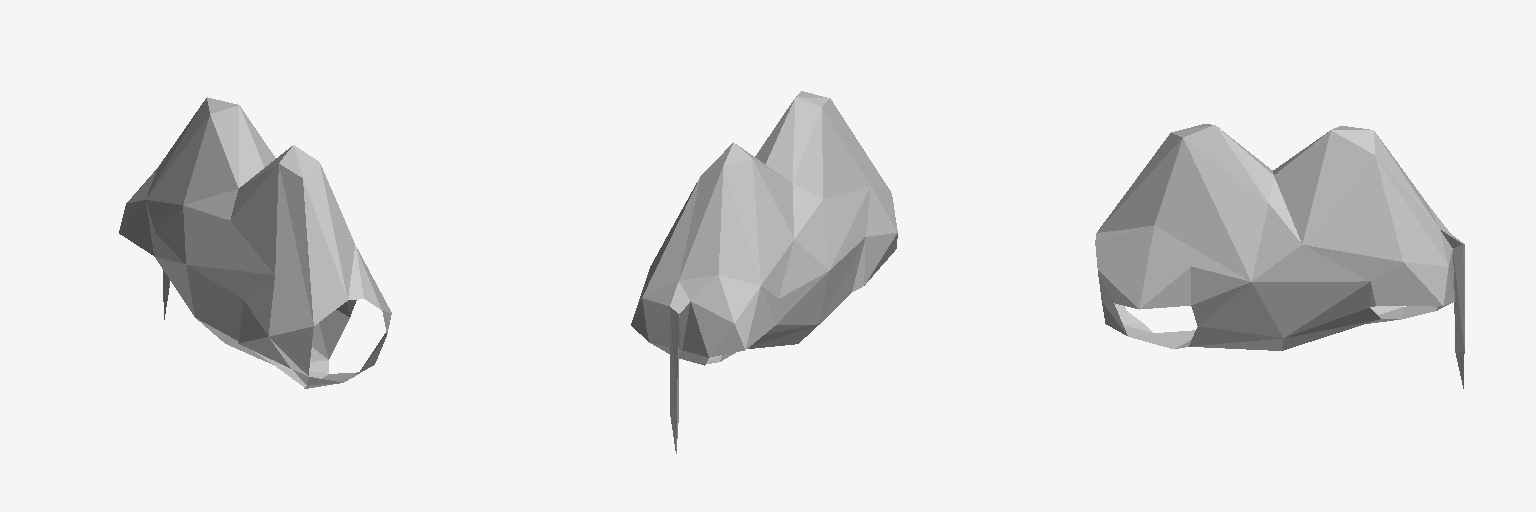
The model's file is CamelBody.obj.
3 views of the same model, side by side, from view 1: azimuth 30°, elevation 25°; view 2: azimuth 150°, elevation 25°; view 3: azimuth 270°, elevation 25° (orthographic).
Parts seen in each view (by area): view 1: camel-cuerpo; view 2: camel-cuerpo; view 3: camel-cuerpo.
Boxes of the visible parts, <box> form: camel-cuerpo: <box>119,97,391,388</box>; camel-cuerpo: <box>631,91,897,453</box>; camel-cuerpo: <box>1095,124,1464,388</box>.
Bounding box in the file's own units: 0.6718 × 1.31 × 1.64.